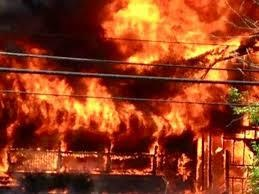fire: (17, 16, 259, 168)
